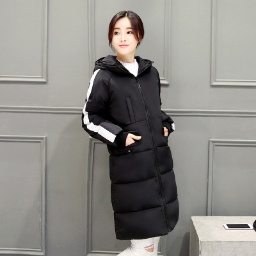face: (106, 11, 145, 56)
